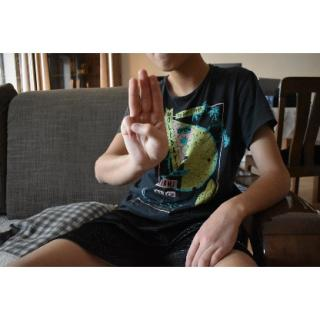THA: (120, 65, 172, 173)
